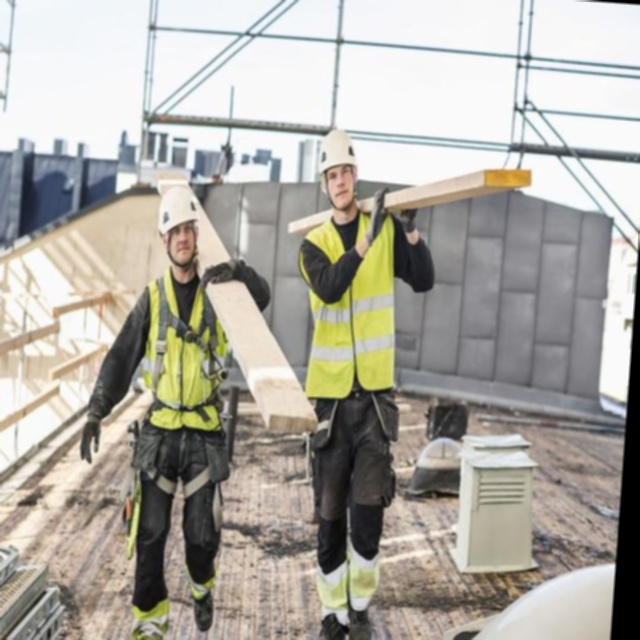Con_Casco: (314, 127, 365, 214), (153, 182, 204, 268)
Con_Chaleco: (296, 212, 405, 394), (132, 273, 235, 432)
